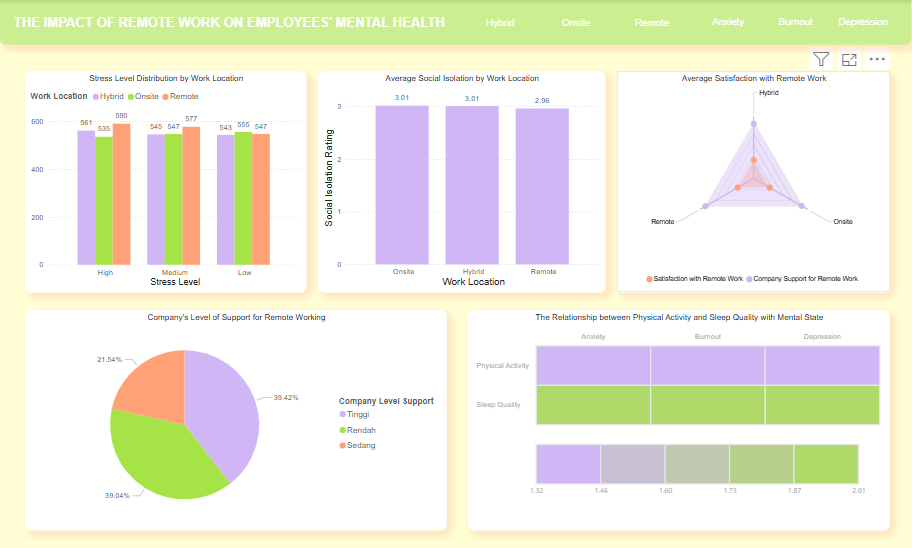

The dashboard page shown, as its layout file describes it:
{"tool":"powerbi","page":{"name":"Page 1","canvas":[1480,890],"ordinal":0},"visuals":[{"type":"clusteredColumnChart","title":"Stress Level Distribution by Work Location","fields":{"Category":["Impact_of_Remote_Work_on_Mental_Health_Clean.Stress_Level"],"Series":["Impact_of_Remote_Work_on_Mental_Health_Clean.Work_Location"],"Y":["CountNonNull(Impact_of_Remote_Work_on_Mental_Health_Clean.Work_Location)"]},"box":[40,115,456.7,360],"z":0},{"type":"clusteredColumnChart","title":"Average Social Isolation by Work Location","fields":{"Category":["Impact_of_Remote_Work_on_Mental_Health_Clean.Work_Location"],"Y":["Avg(Impact_of_Remote_Work_on_Mental_Health_Clean.Social_Isolation_Rating)"]},"box":[516.7,115,466.7,360],"z":1000},{"type":"RadarChart1446119667547","title":"Average Satisfaction with Remote Work","fields":{"Category":["Impact_of_Remote_Work_on_Mental_Health_Clean.Work_Location"],"Y":["Min(Impact_of_Remote_Work_on_Mental_Health_Clean.Satisfaction_with_Remote_Work_Num)","Avg(Impact_of_Remote_Work_on_Mental_Health_Clean.Company_Support_for_Remote_Work)"]},"box":[1001.7,115,443.3,360],"z":2000},{"type":"pieChart","title":"Company''s Level of Support for Remote Working","fields":{"Category":["Impact_of_Remote_Work_on_Mental_Health_Clean.Support_Level_Category"],"Y":["CountNonNull(Impact_of_Remote_Work_on_Mental_Health_Clean.Support_Level_Category)"]},"box":[40,503.3,685,358.3],"z":3000},{"type":"textbox","box":[0,0,1479.5,73.1],"z":4000},{"type":"TableHeatMap1443716069308","title":"The Relationship between Physical Activity and Sleep Quality with Mental State","fields":{"Y":["Avg(Impact_of_Remote_Work_on_Mental_Health_Clean.Physical_Activity_Num)","Avg(Impact_of_Remote_Work_on_Mental_Health_Clean.Sleep_Quality_Num)"],"Category":["Impact_of_Remote_Work_on_Mental_Health_Clean.Mental_Health_Condition"]},"box":[760,503.3,685,358.3],"z":5000},{"type":"slicer","fields":{"Values":["Impact_of_Remote_Work_on_Mental_Health_Clean.Work_Location"]},"box":[726,14.6,417.4,42.2],"z":6000},{"type":"slicer","fields":{"Values":["Impact_of_Remote_Work_on_Mental_Health_Clean.Mental_Health_Condition"]},"box":[1102.8,11.4,376.8,47.1],"z":7000},{"type":"shape","box":[0,0,1480,15],"z":8000}]}

Visuals, with their boxes in screenshot pixels (x1, y1, x2, y2), scaled from the page's 1480x890 canvas onto the 912x548 screenshot:
"Stress Level Distribution by Work Location" clusteredColumnChart: 25/71/306/292
"Average Social Isolation by Work Location" clusteredColumnChart: 318/71/606/292
"Average Satisfaction with Remote Work" RadarChart1446119667547: 617/71/890/292
"Company''s Level of Support for Remote Working" pieChart: 25/310/447/531
textbox: 0/0/911/45
"The Relationship between Physical Activity and Sleep Quality with Mental State" TableHeatMap1443716069308: 468/310/890/531
slicer - Impact_of_Remote_Work_on_Mental_Health_Clean.Work_Location: 447/9/705/35
slicer - Impact_of_Remote_Work_on_Mental_Health_Clean.Mental_Health_Condition: 680/7/911/36
shape: 0/0/911/9
